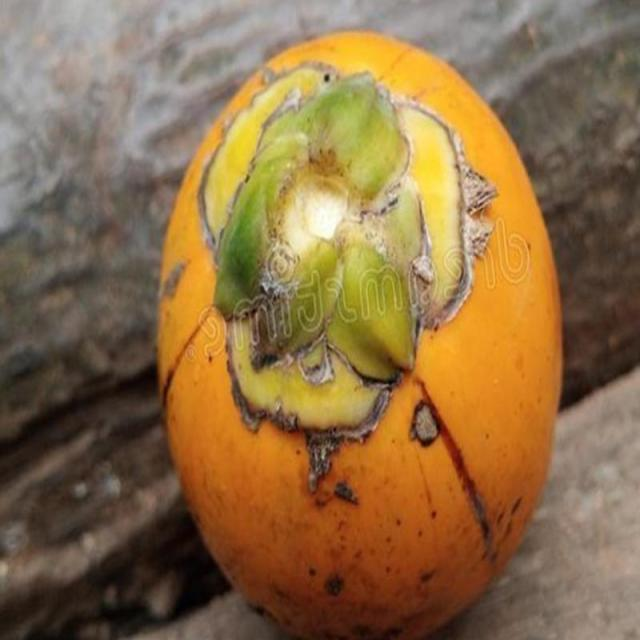good: (158, 32, 562, 639)
